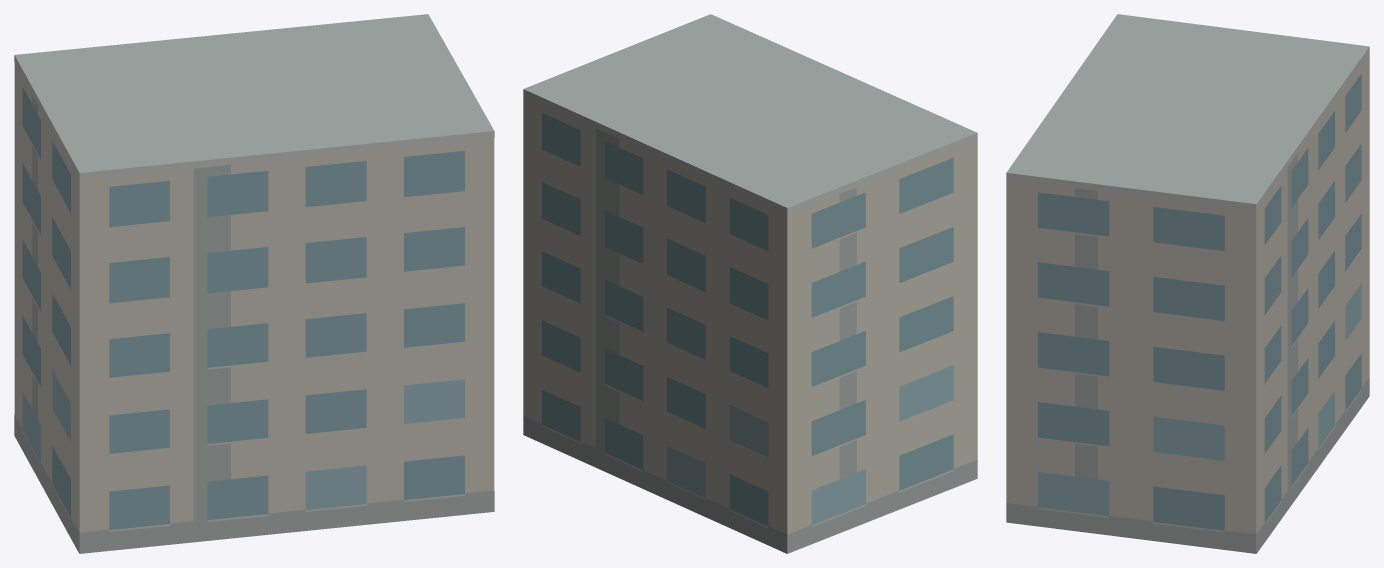
Rendered from survey-upis-32887550.glb.
3 views of the same model, side by side, from view 1: azimuth 30°, elevation 25°; view 2: azimuth 150°, elevation 25°; view 3: azimuth 270°, elevation 25° (orthographic). The views are drawn at different scales.
Visible parts, largest first — view 1: survey-upis-32887550.tmp; view 2: survey-upis-32887550.tmp; view 3: survey-upis-32887550.tmp.
Part boxes in pixels (<box>): survey-upis-32887550.tmp: <box>14,14,494,553</box>; survey-upis-32887550.tmp: <box>523,14,977,553</box>; survey-upis-32887550.tmp: <box>1006,14,1369,553</box>.
Bounding box in the file's own units: 15.29 × 13.1 × 12.35.
